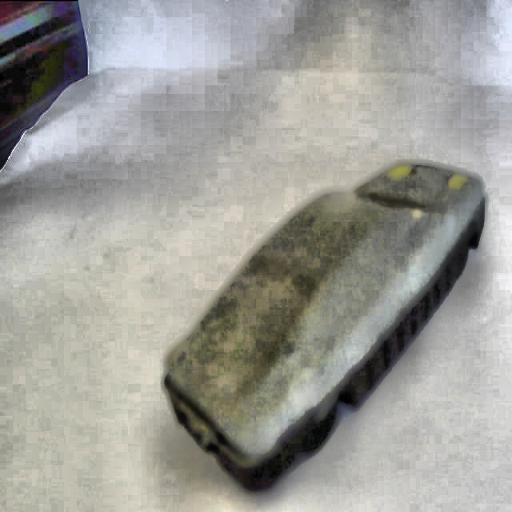normal_car: (160, 159, 490, 498)
